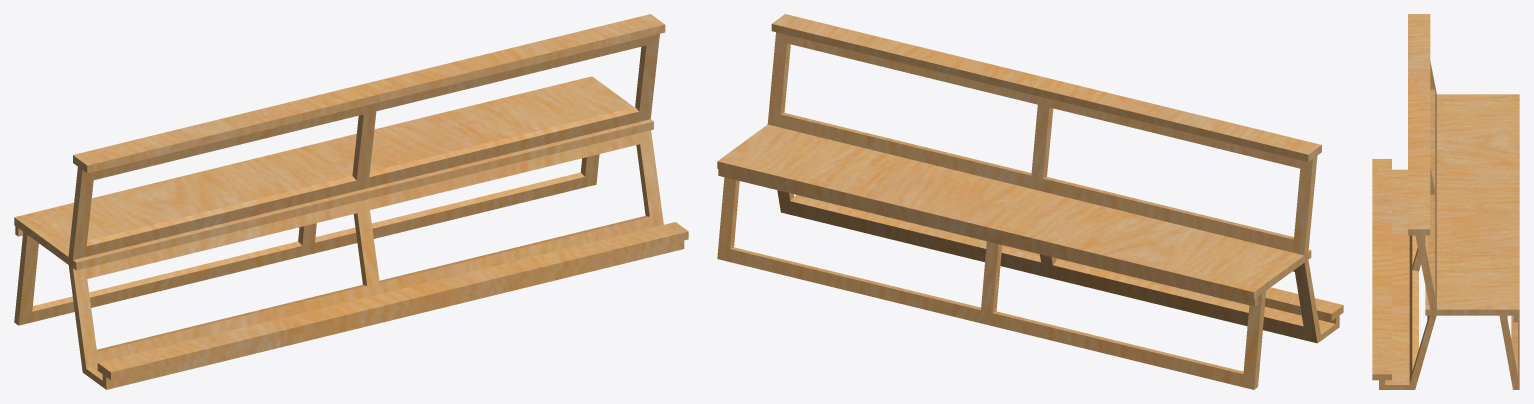
3 views of the same model, side by side, from view 1: azimuth 30°, elevation 25°; view 2: azimuth 150°, elevation 25°; view 3: azimuth 270°, elevation 25° (orthographic). The views are drawn at different scales.
Parts seen in each view (by area): view 1: Banco (×7); view 2: Banco (×7); view 3: Banco (×5).
Part boxes in pixels (left/top/right/bottom): Banco (×7): left=14, top=14, right=688, bottom=389; Banco (×7): left=717, top=14, right=1343, bottom=389; Banco (×5): left=1372, top=14, right=1519, bottom=389.
Bounding box in the file's own units: 90.55 × 26.22 × 31.5.
